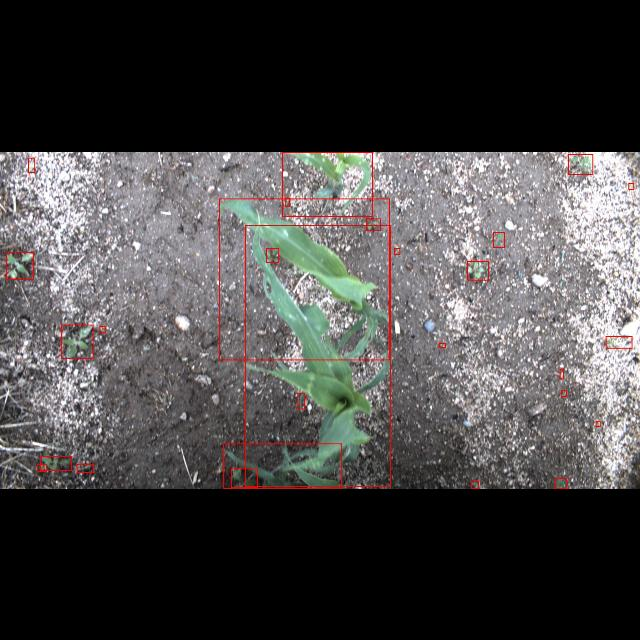crop: (246, 224, 390, 486), (219, 198, 389, 360), (282, 151, 372, 215), (223, 444, 341, 488)
weed: (62, 324, 92, 358), (6, 252, 34, 278), (231, 468, 257, 488), (568, 153, 592, 173), (40, 456, 72, 470), (468, 260, 488, 280), (606, 336, 632, 348), (366, 218, 380, 230), (267, 248, 279, 262), (76, 463, 94, 472), (494, 232, 504, 246), (556, 478, 566, 488), (29, 156, 35, 172), (298, 394, 304, 408), (38, 464, 46, 472), (284, 197, 290, 206), (472, 480, 478, 488), (438, 342, 446, 348), (560, 369, 564, 379), (100, 326, 106, 332), (394, 247, 400, 253), (628, 183, 634, 189), (596, 420, 600, 426), (562, 390, 566, 396)
